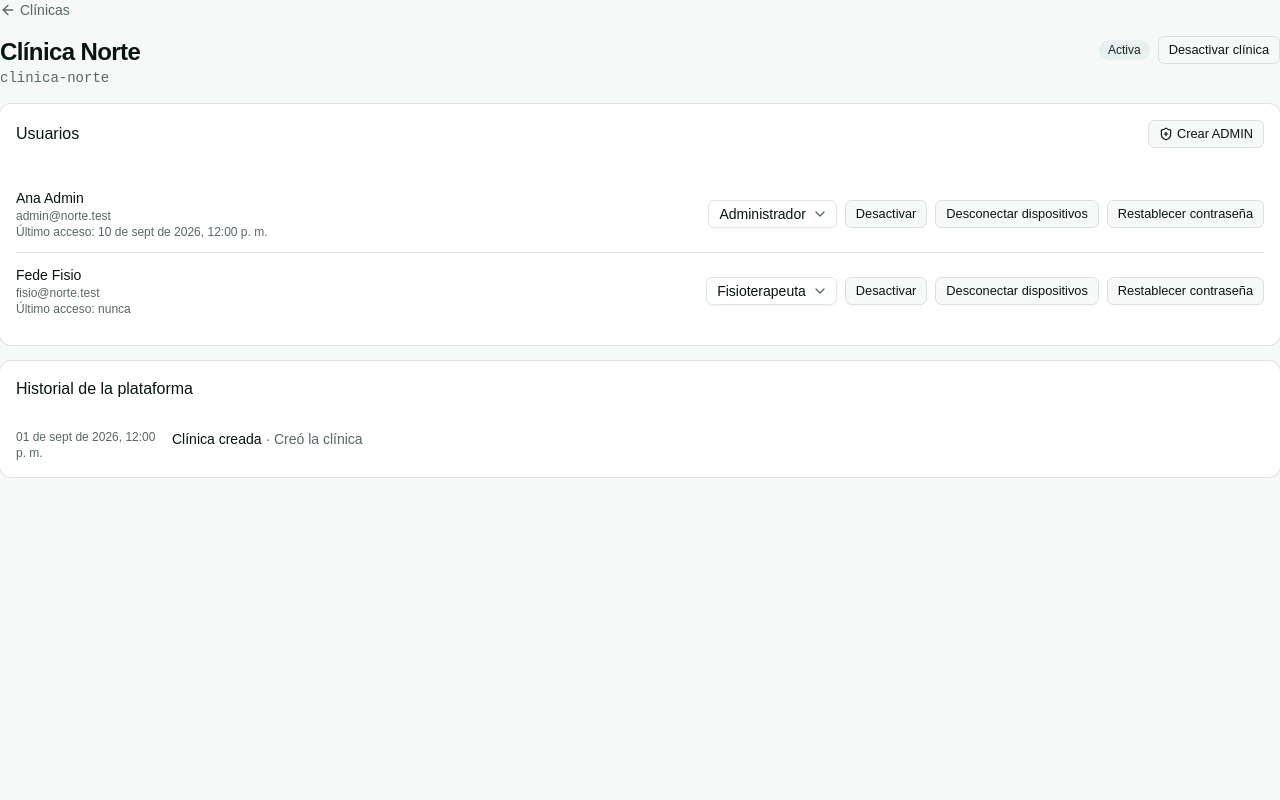
PlatformTenantDetailPage › el 409 de la última ADMIN se muestra con el mensaje del servidor
The width and height of the screenshot is (1280, 800).
Click the dropdown labelled "Administrador ▼".
click(773, 214)  # box left=708, top=200, right=837, bottom=228
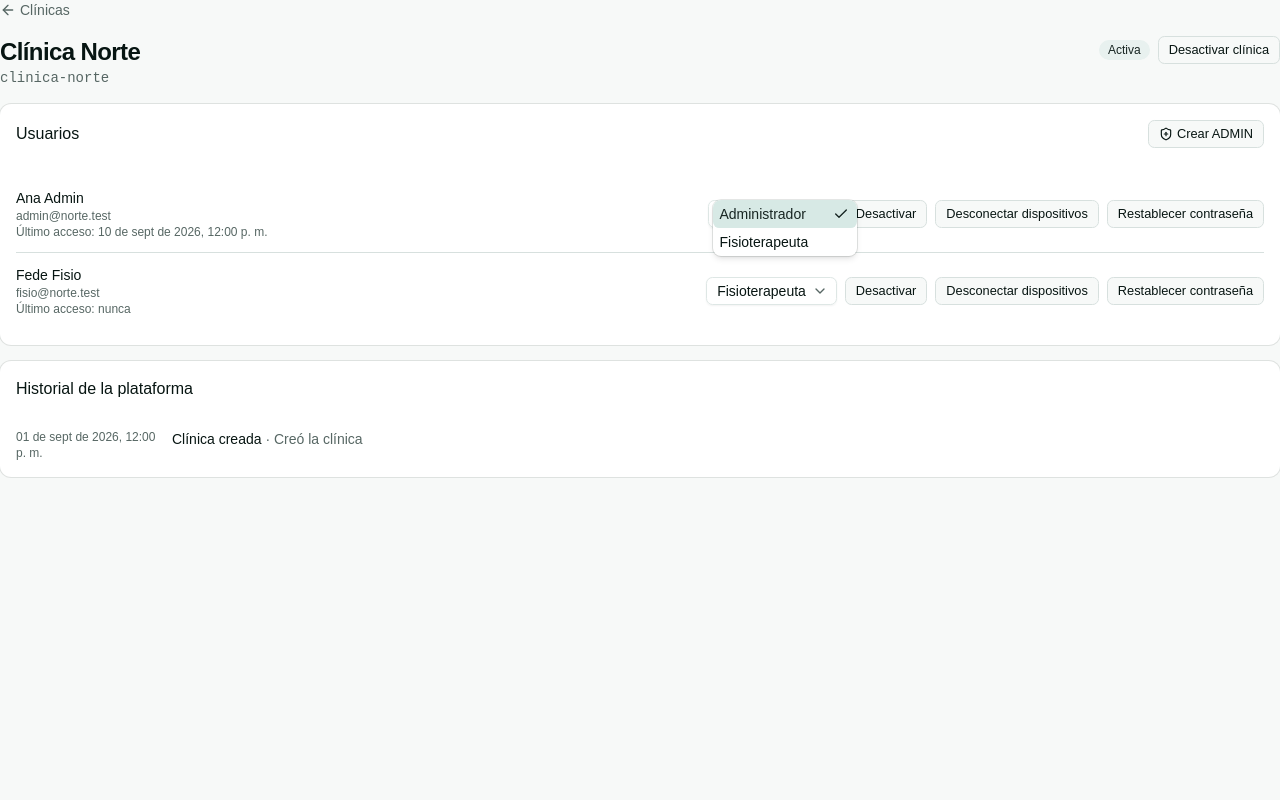
Click the option "Fisioterapeuta".
click(764, 242)  # box left=720, top=234, right=808, bottom=250
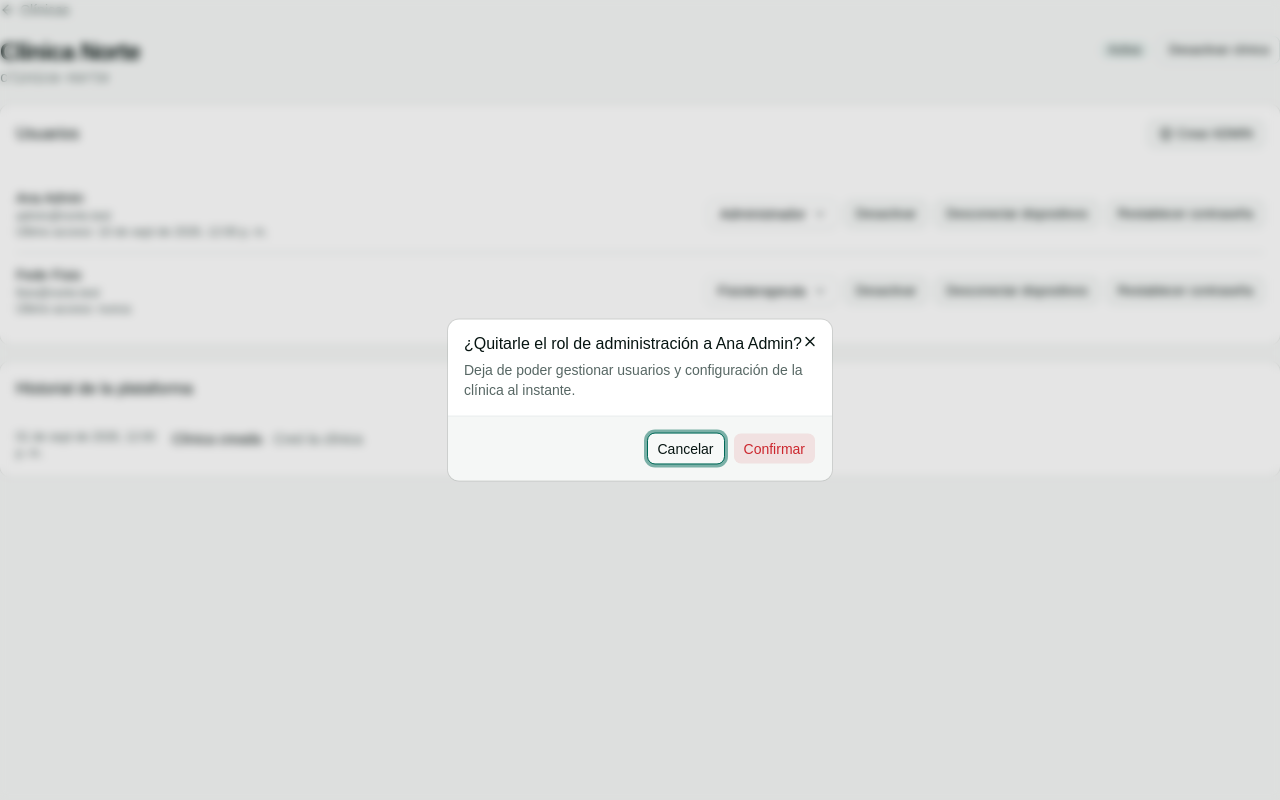
Click the button "Confirmar".
click(774, 448)  # box left=732, top=432, right=816, bottom=464
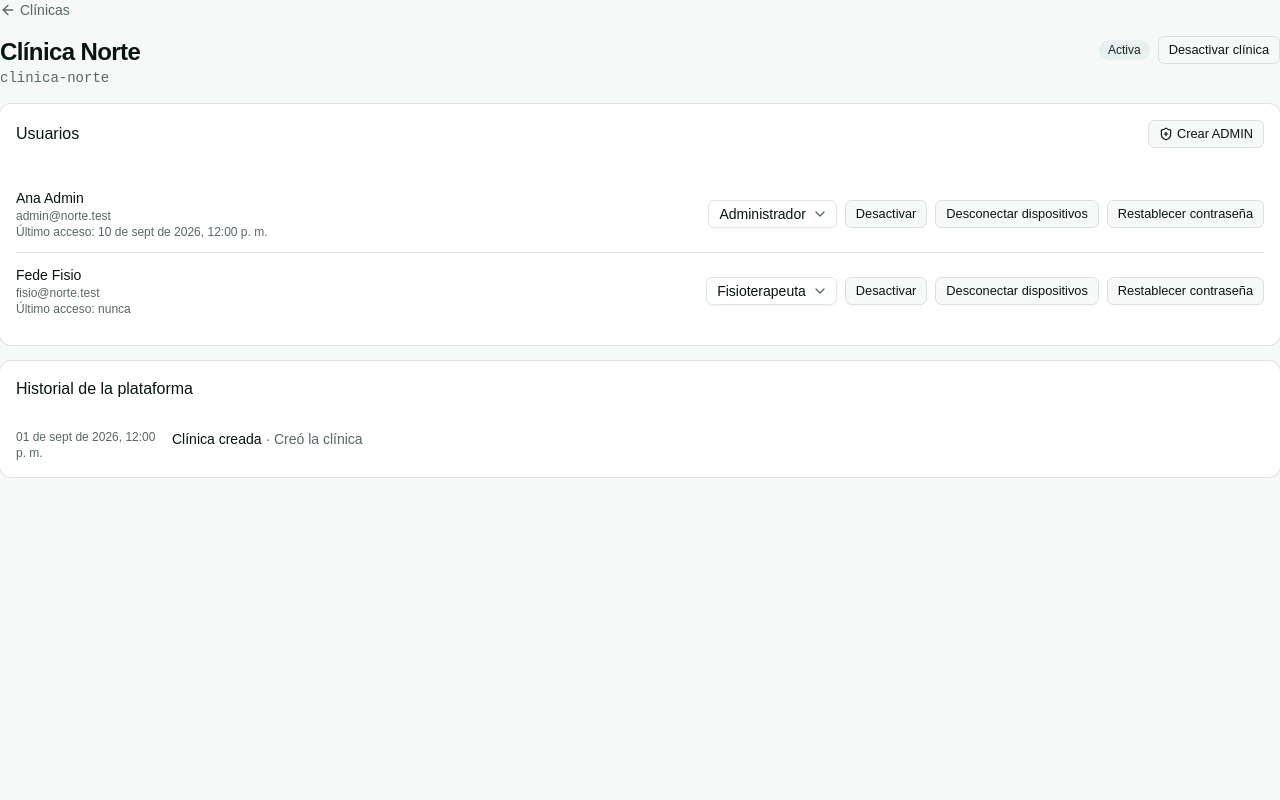
Check: the dialog is gone
